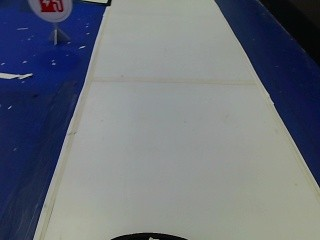battery: (26, 0, 70, 19)
